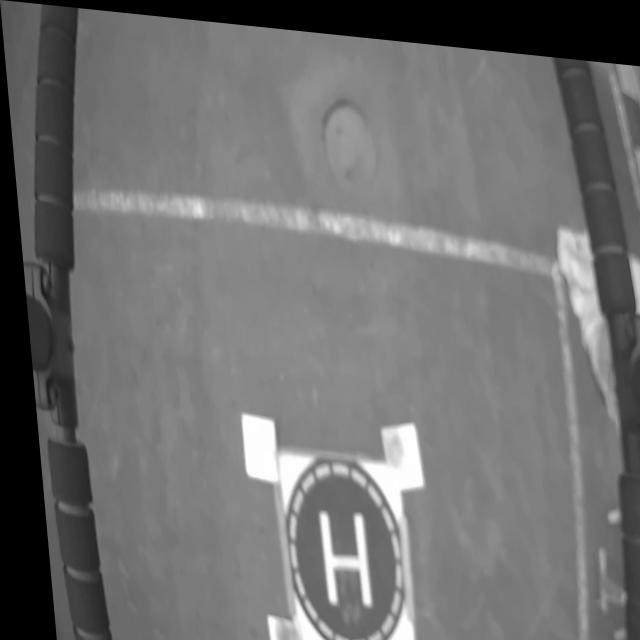Helipad: (309, 503, 363, 601)
